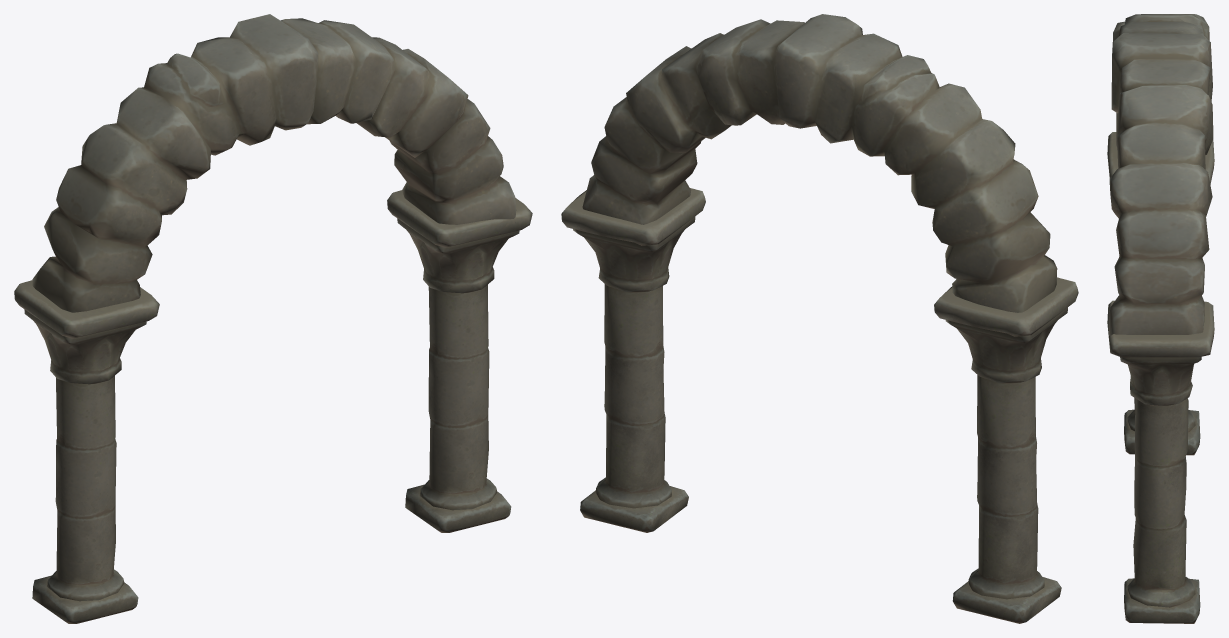
Rendered from MSH_fwOF_Ruins_Misc_Decor_01.fbx.
The picture shows the model from 3 angles, left to right: view 1: azimuth 30°, elevation 25°; view 2: azimuth 150°, elevation 25°; view 3: azimuth 270°, elevation 25°; orthographic projection. The views are drawn at different scales.
Parts seen in each view (by area): view 1: MSH_fwOF_Ruins_Misc_Decor_01_LOD0; view 2: MSH_fwOF_Ruins_Misc_Decor_01_LOD0; view 3: MSH_fwOF_Ruins_Misc_Decor_01_LOD0.
Boxes of the visible parts, <box> form: MSH_fwOF_Ruins_Misc_Decor_01_LOD0: <box>14,14,532,623</box>; MSH_fwOF_Ruins_Misc_Decor_01_LOD0: <box>561,14,1078,623</box>; MSH_fwOF_Ruins_Misc_Decor_01_LOD0: <box>1107,14,1214,623</box>.
Size of what is drawn, in the model's own units: 3.66 by 3.91 by 0.7789.
